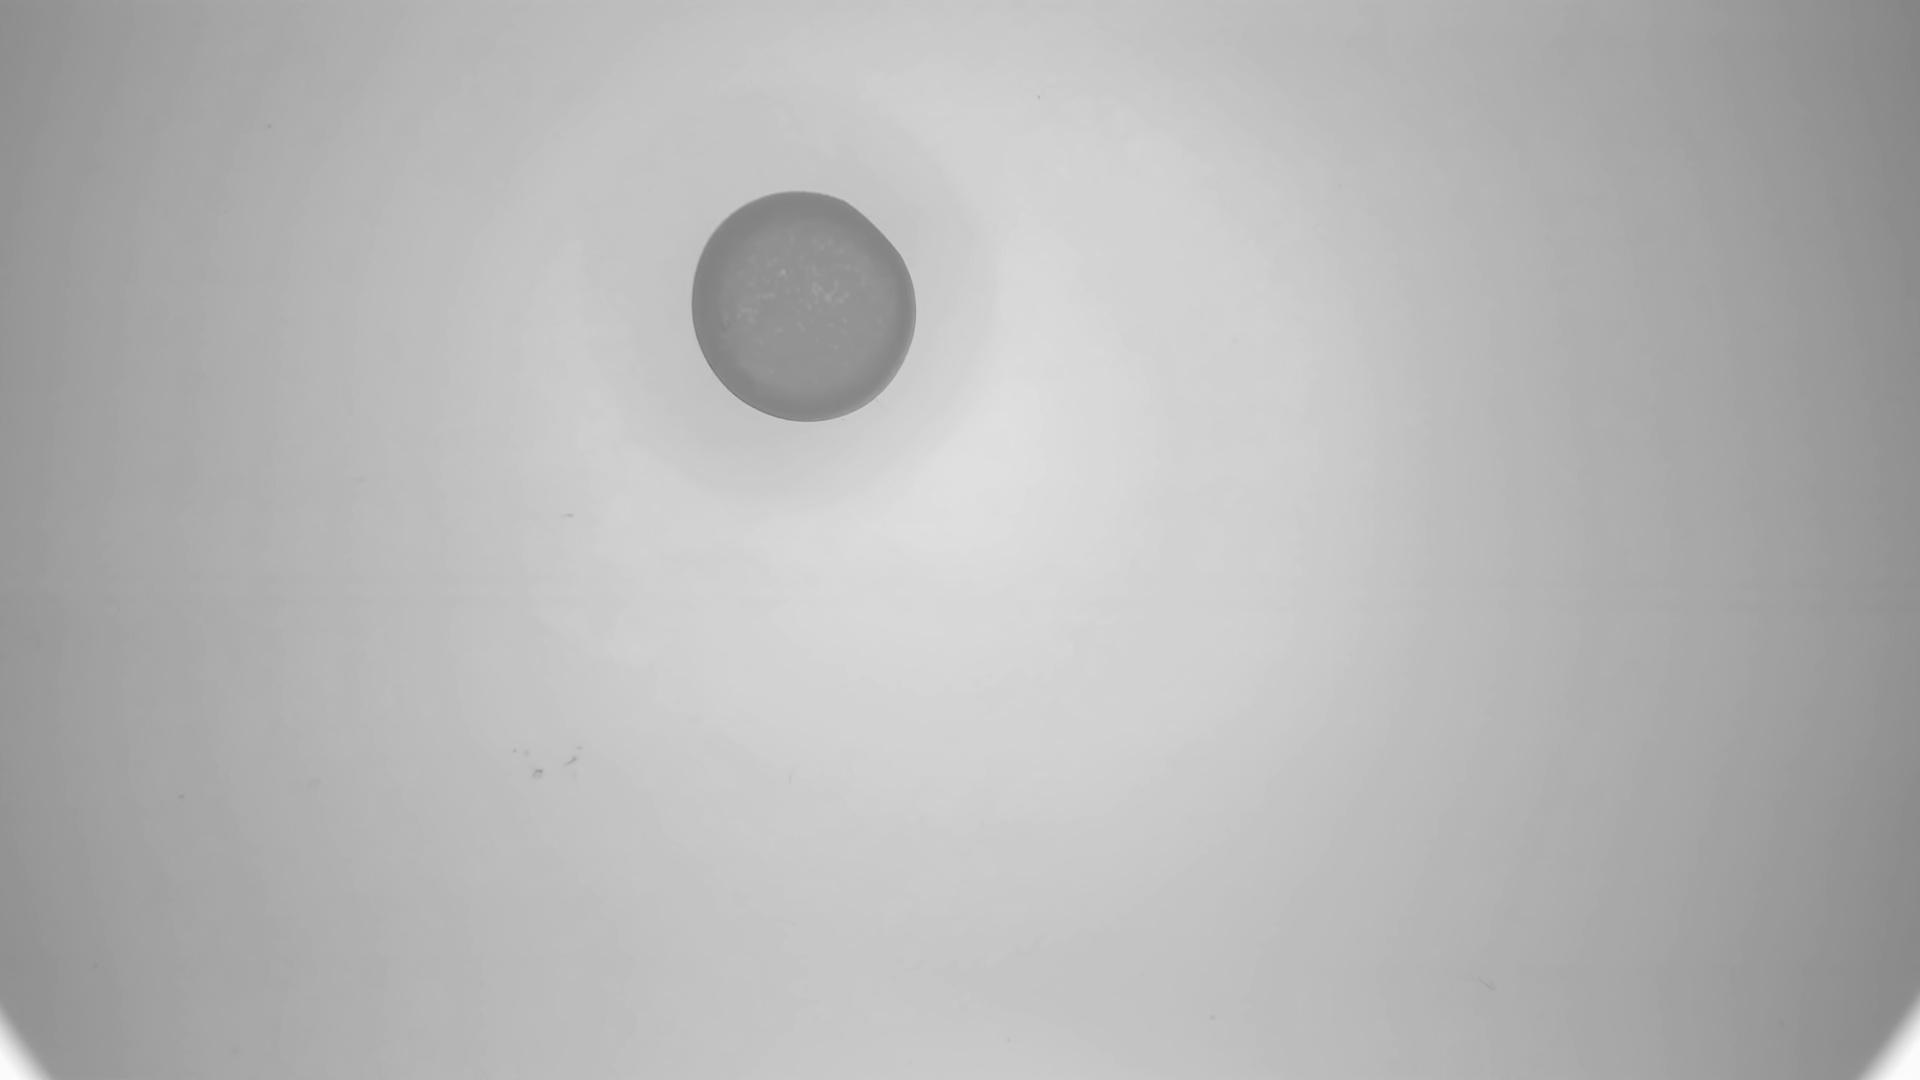normal: (694, 191, 922, 425)
